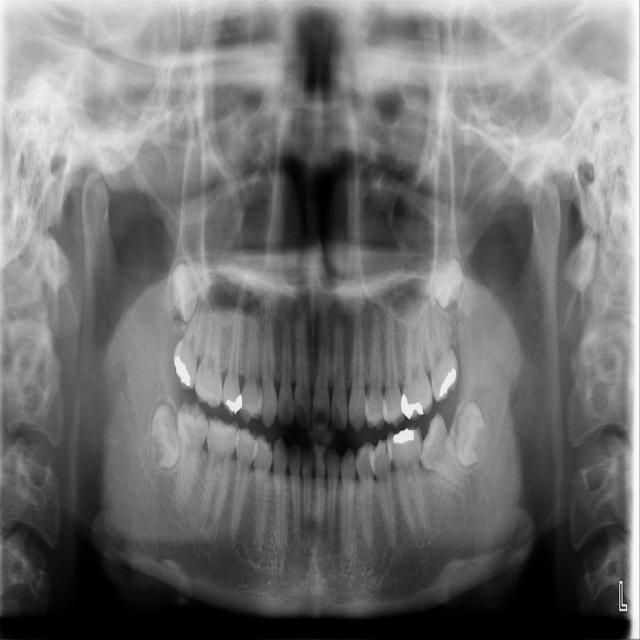Filling: (399, 393, 428, 418), (172, 355, 193, 387), (437, 366, 457, 397), (225, 392, 243, 412), (390, 430, 414, 444)
